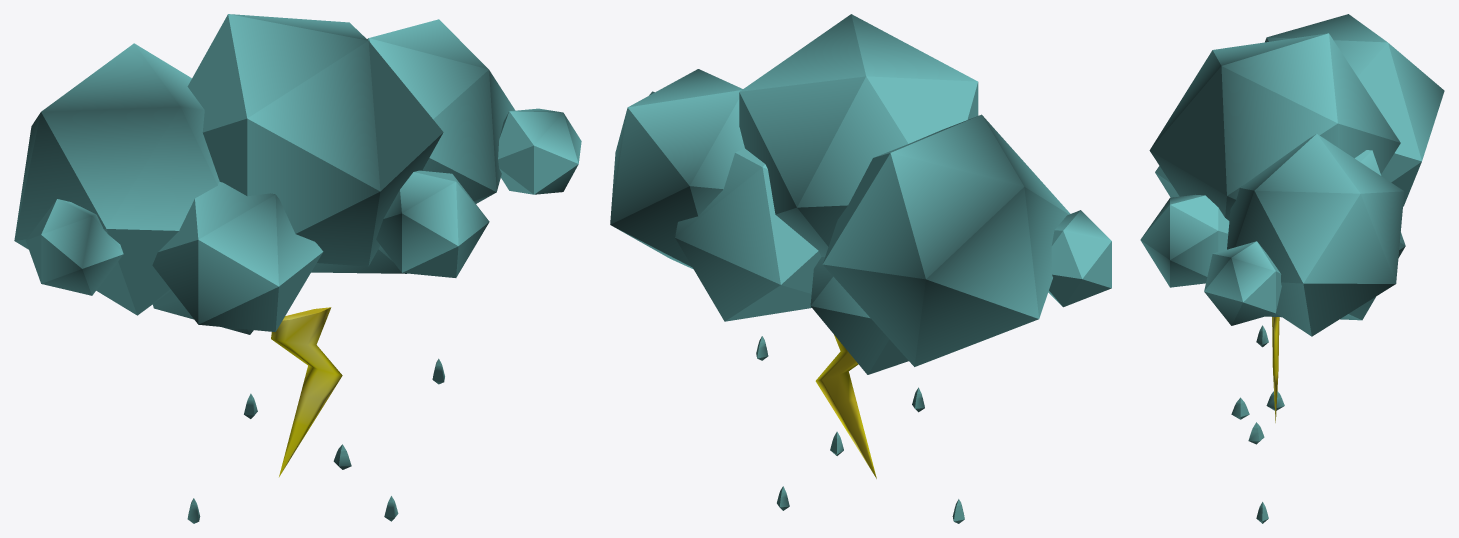
File: 2cloud.fbx
The picture shows the model from 3 angles, left to right: view 1: azimuth 30°, elevation 25°; view 2: azimuth 150°, elevation 25°; view 3: azimuth 270°, elevation 25°; orthographic projection. The views are drawn at different scales.
Visible parts, largest first — view 1: polySurface9, polySurface6, polySurface7, polySurface8, polySurface10, polySurface11, polySurface12, polySurface13, polySurface5, polySurface4; view 2: polySurface6, polySurface9, polySurface8, polySurface5, polySurface11, polySurface4, polySurface13; view 3: polySurface9, polySurface8, polySurface6, polySurface10, polySurface12, polySurface5, polySurface13.
Boxes of the visible parts, bbox=[...] form: polySurface9: bbox=[187, 14, 443, 266]; polySurface6: bbox=[14, 43, 219, 315]; polySurface7: bbox=[152, 181, 323, 331]; polySurface8: bbox=[367, 19, 515, 203]; polySurface10: bbox=[376, 170, 489, 277]; polySurface11: bbox=[25, 199, 123, 295]; polySurface12: bbox=[498, 108, 581, 194]; polySurface13: bbox=[271, 307, 342, 476]; polySurface5: bbox=[311, 245, 406, 273]; polySurface4: bbox=[153, 290, 253, 334]; polySurface6: bbox=[822, 114, 1070, 366]; polySurface9: bbox=[739, 14, 978, 256]; polySurface8: bbox=[610, 69, 744, 269]; polySurface5: bbox=[674, 148, 821, 321]; polySurface11: bbox=[1048, 210, 1111, 307]; polySurface4: bbox=[810, 257, 908, 374]; polySurface13: bbox=[815, 335, 876, 478]; polySurface9: bbox=[1149, 33, 1400, 220]; polySurface8: bbox=[1227, 134, 1404, 336]; polySurface6: bbox=[1265, 14, 1444, 206]; polySurface10: bbox=[1140, 194, 1229, 287]; polySurface12: bbox=[1204, 241, 1281, 325]; polySurface5: bbox=[1265, 150, 1405, 320]; polySurface13: bbox=[1272, 317, 1279, 422].
Bounding box in the file's own units: 6.79 × 6.3 × 3.97.
